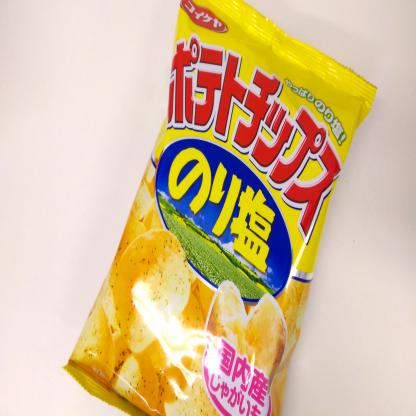potatochip: (60, 6, 375, 416)
